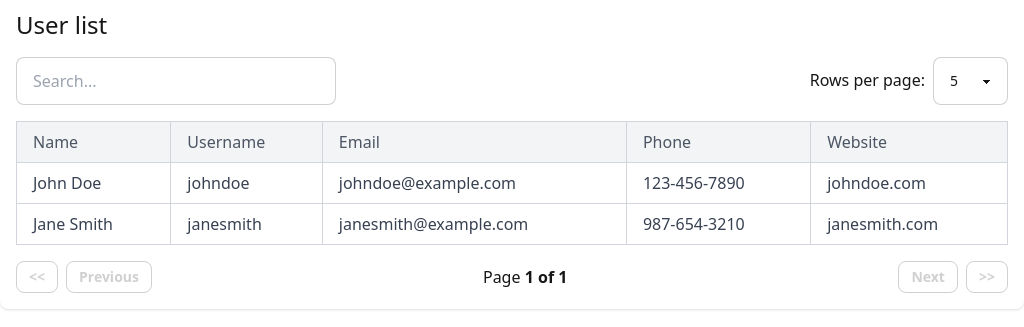
UserTable Component › filters data based on input
Step 1. Type "Jane" into the field with placeholder "Search..." → (176, 81), box [16,57,336,105]
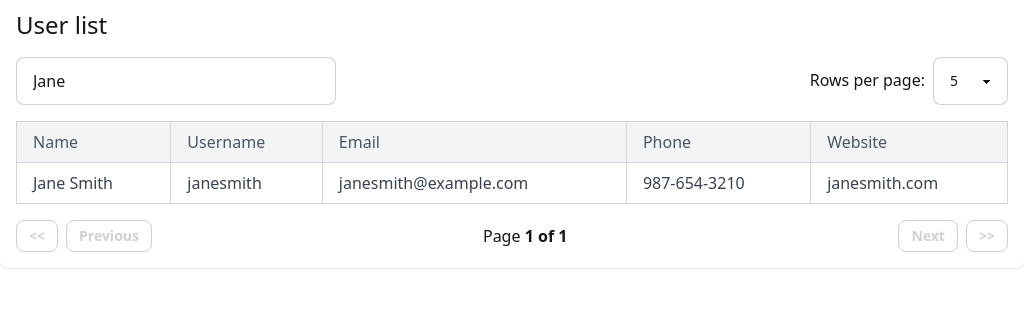
Expected: the text "Jane Smith" is shown, [16,162,171,204]
Now the text "John Doe" is gone
